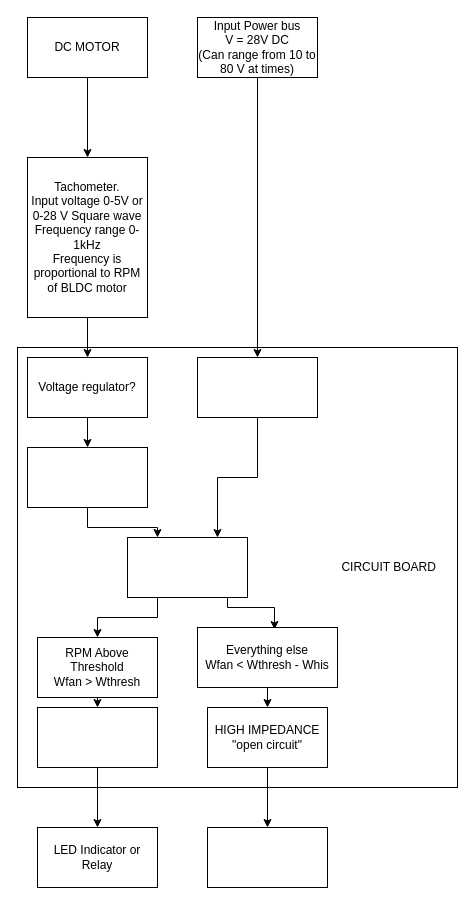
Some shapes in this 475 by 905 pixel diagram are drawn without their labels. Here are the shapes that lost their labels. From the top down, the centre of each, then its label:
At pixel 257 387: "Voltage regulator".
At pixel 87 477: "RC Filter".
At pixel 187 567: "Comaperter OP-AMP".
At pixel 97 737: "GROUND UP TO 1A CURRENT".
At pixel 267 857: "Outside Circuit".
